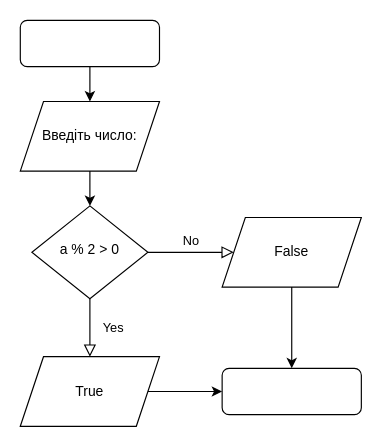
The diagram is 382 pixels wide and 447 high, and some of its shapes have lost their labels. The centre of each missing label's shape, as x and y in pixels:
Кінець: pixel 291 391
Початок: pixel 89 43
